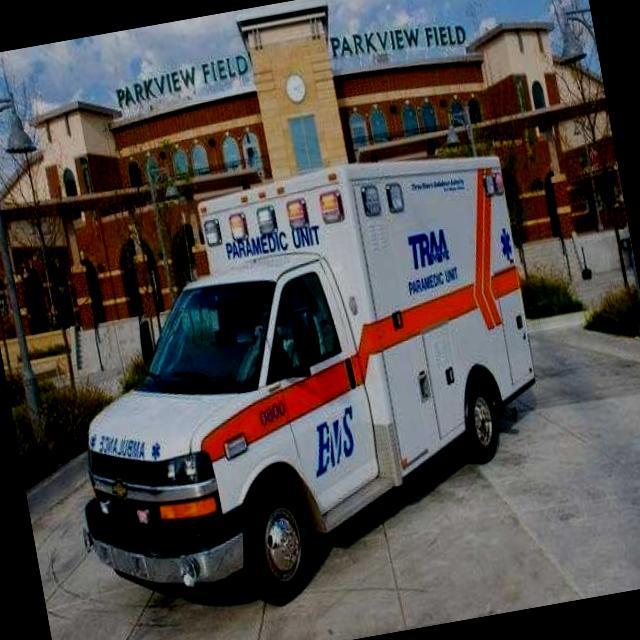emergency-vehicle: (26, 129, 569, 640)
